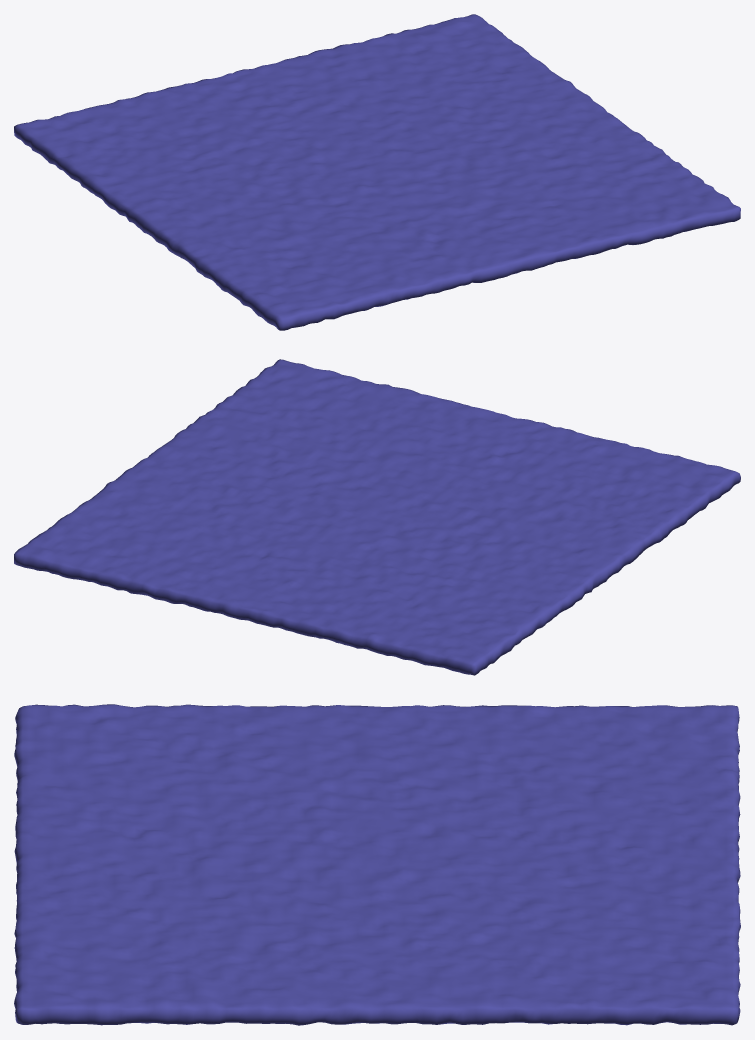
File: SeaCalm.glb
3 renders of one model, top to bottom at view 1: azimuth 30°, elevation 25°; view 2: azimuth 150°, elevation 25°; view 3: azimuth 270°, elevation 25°, orthographic. The views are drawn at different scales.
Parts seen in each view (by area): view 1: Plane.001; view 2: Plane.001; view 3: Plane.001.
Boxes of the visible parts, box(x1,y1,x2,y2) form: Plane.001: box(14, 14, 740, 330); Plane.001: box(14, 359, 740, 675); Plane.001: box(14, 704, 740, 1025).
Size of the model in its own units: 330 by 11.54 by 330.
